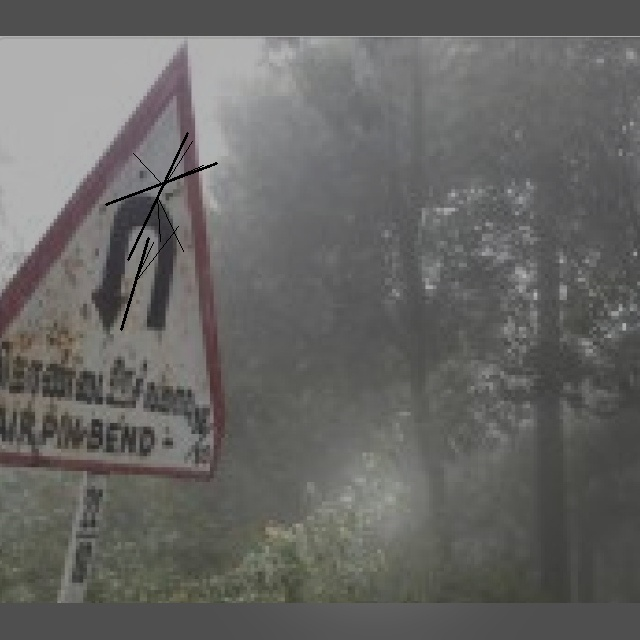Left_Hair_Pin_Bend: (16, 108, 232, 363)
